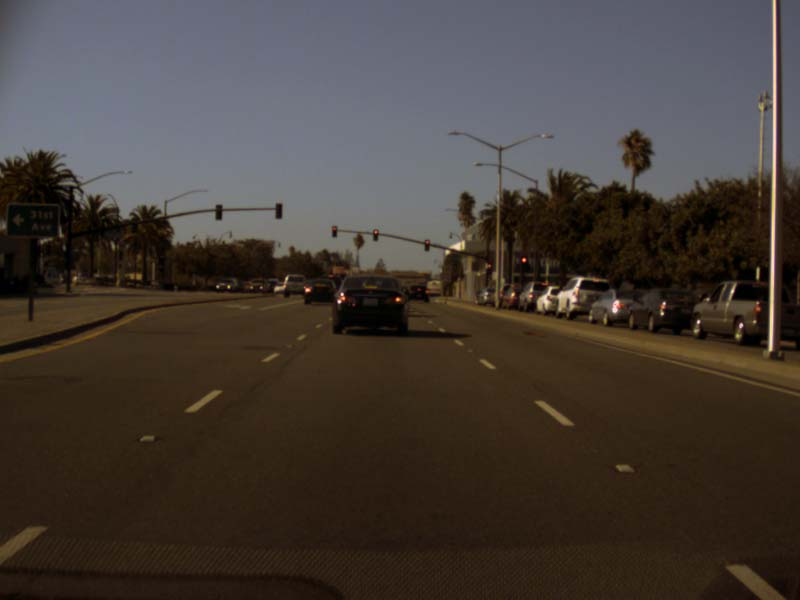Red: (521, 256, 527, 271), (423, 239, 430, 251), (332, 225, 337, 237), (487, 264, 491, 275), (373, 230, 377, 240)
